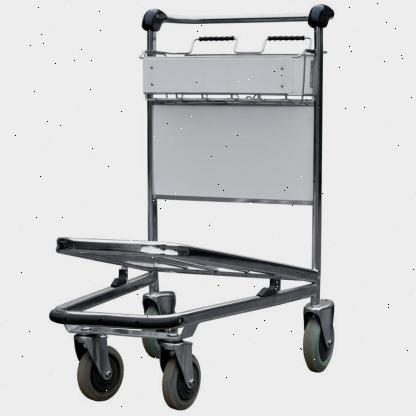airport-trolley: (47, 0, 338, 412)
